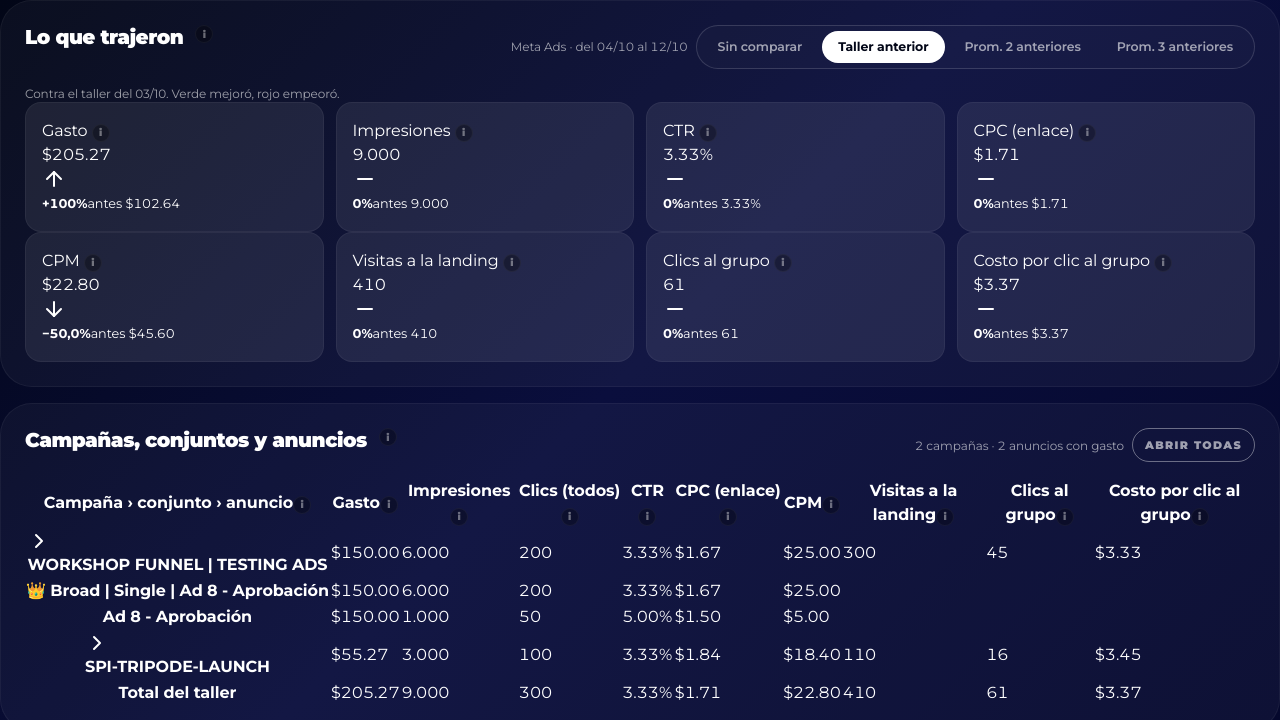
Scenario: Workshop › Talleres › Anuncios del taller › comparación contra los talleres anteriores › «Sin comparar» quita las flechas y no pide los talleres anteriores
The image size is (1280, 720).
Check: the text "Ad 8 - Aprobación" is shown, box [103,607,252,626]
Check: the text "+100%" is shown, box [42,196,87,211]
Step 1. Click the tab "Sin comparar" → (760, 47), box [702,31,818,63]
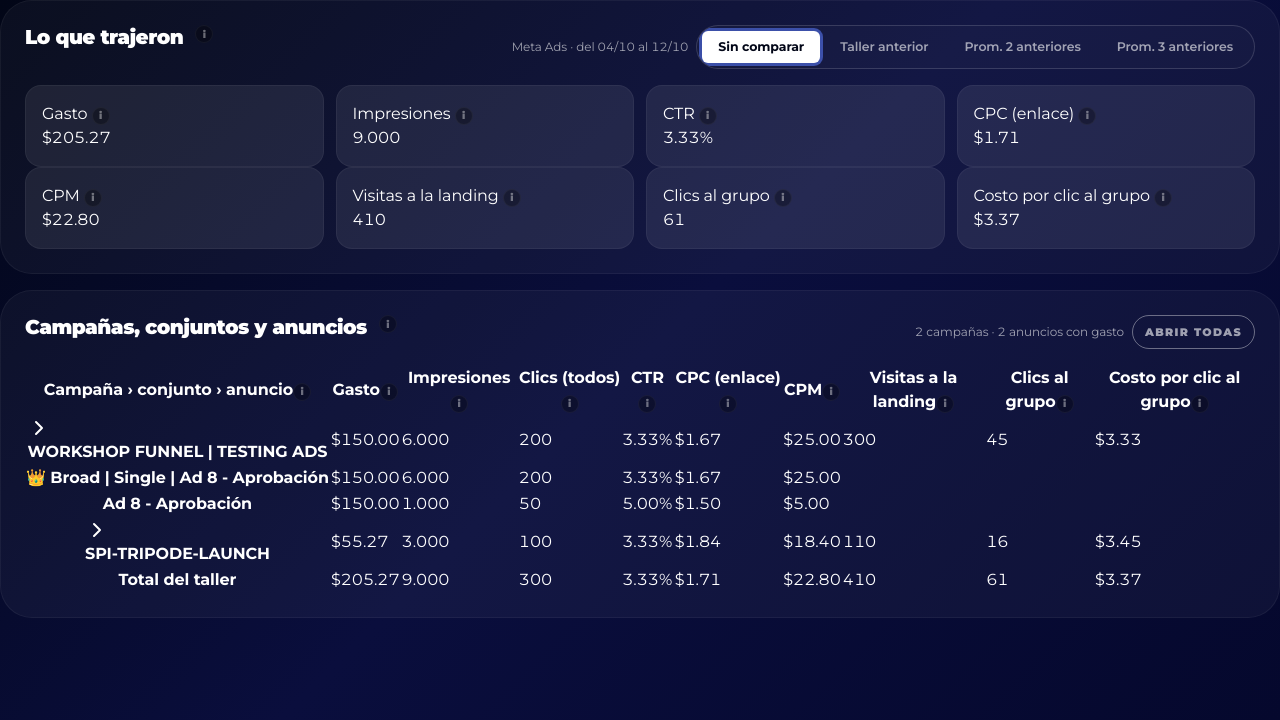
Check: the element with class "wt-var" is gone
